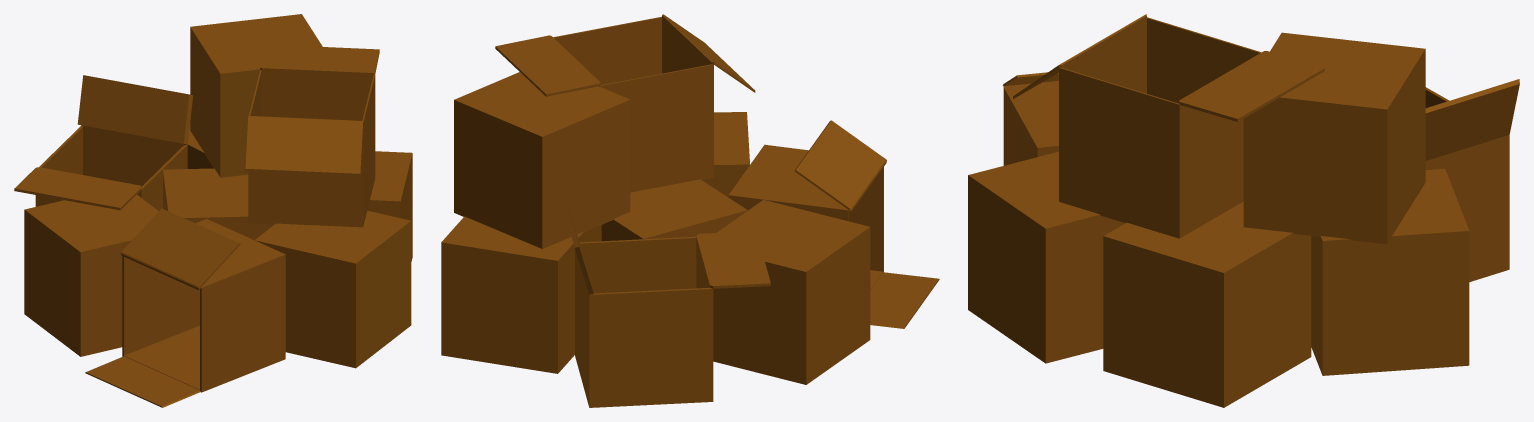
The model's file is Boxes[Hazard].fbx.
3 renders of one model, left to right at view 1: azimuth 30°, elevation 25°; view 2: azimuth 150°, elevation 25°; view 3: azimuth 270°, elevation 25°, orthographic. The views are drawn at different scales.
Parts seen in each view (by area): view 1: Cube.008, Cube.003, Cube, Cube.006, Cube.007, Cube.005, Cube.001, Cube.002, Cube.004; view 2: Cube.006, Cube.005, Cube.007, Cube.003, Cube.004, Cube.008, Cube.001, Cube; view 3: Cube.003, Cube.002, Cube.005, Cube.004, Cube, Cube.006, Cube.008.
Boxes of the visible parts, x1=… form: Cube.008: x1=85, y1=208, x2=285, y2=407; Cube.003: x1=245, y1=44, x2=379, y2=227; Cube: x1=254, y1=210, x2=411, y2=368; Cube.006: x1=14, y1=75, x2=193, y2=210; Cube.007: x1=24, y1=194, x2=158, y2=356; Cube.005: x1=190, y1=14, x2=322, y2=177; Cube.001: x1=163, y1=168, x2=274, y2=240; Cube.002: x1=367, y1=151, x2=412, y2=261; Cube.004: x1=187, y1=123, x2=213, y2=168; Cube.006: x1=560, y1=194, x2=770, y2=407; Cube.005: x1=454, y1=72, x2=630, y2=248; Cube.007: x1=713, y1=200, x2=870, y2=384; Cube.003: x1=495, y1=14, x2=755, y2=192; Cube.004: x1=441, y1=216, x2=601, y2=373; Cube.008: x1=728, y1=120, x2=939, y2=328; Cube.001: x1=601, y1=179, x2=747, y2=241; Cube: x1=702, y1=112, x2=749, y2=197; Cube.003: x1=1013, y1=14, x2=1324, y2=238; Cube.002: x1=1103, y1=201, x2=1311, y2=407; Cube.005: x1=1243, y1=32, x2=1425, y2=244; Cube.004: x1=1311, y1=169, x2=1469, y2=375; Cube: x1=968, y1=151, x2=1125, y2=363; Cube.006: x1=1425, y1=79, x2=1519, y2=282; Cube.008: x1=1002, y1=72, x2=1058, y2=165.
Size of the model in its own units: 213 by 118 by 217.
